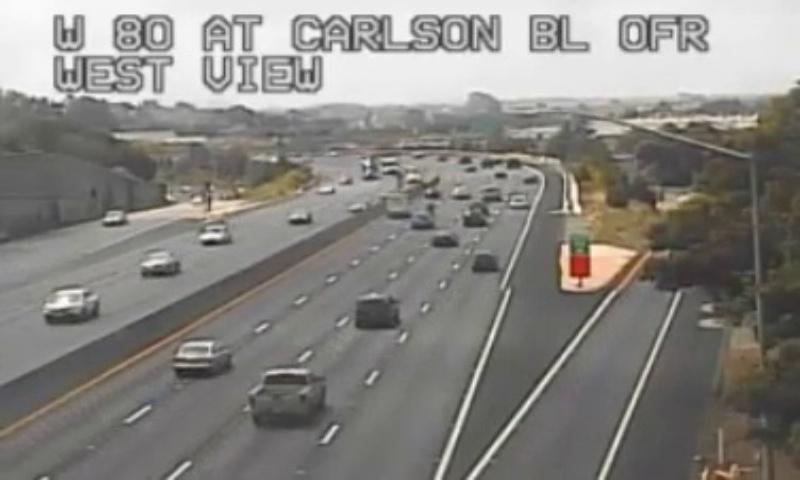car: (248, 368, 327, 424), (171, 341, 230, 373), (356, 295, 396, 327), (430, 230, 460, 247), (471, 251, 496, 271)
